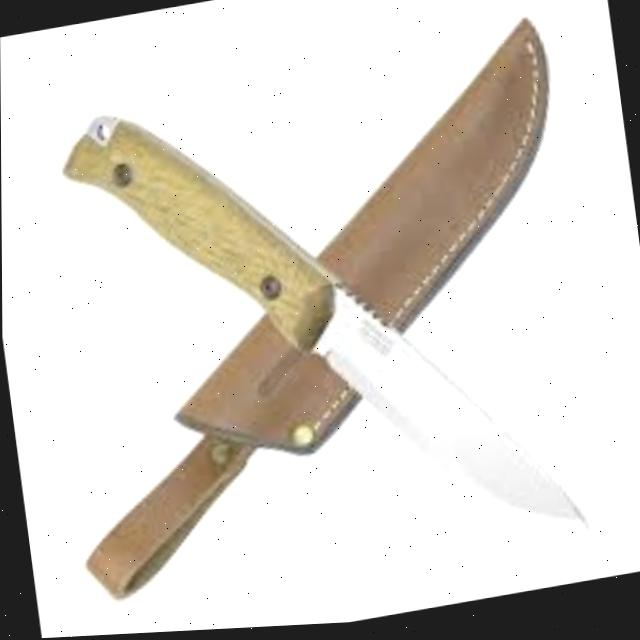Knife: (27, 18, 605, 612)
